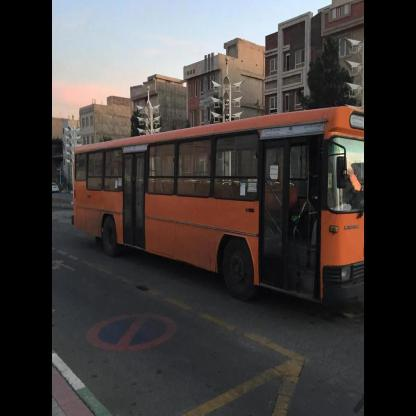Bus: (72, 90, 377, 325)
